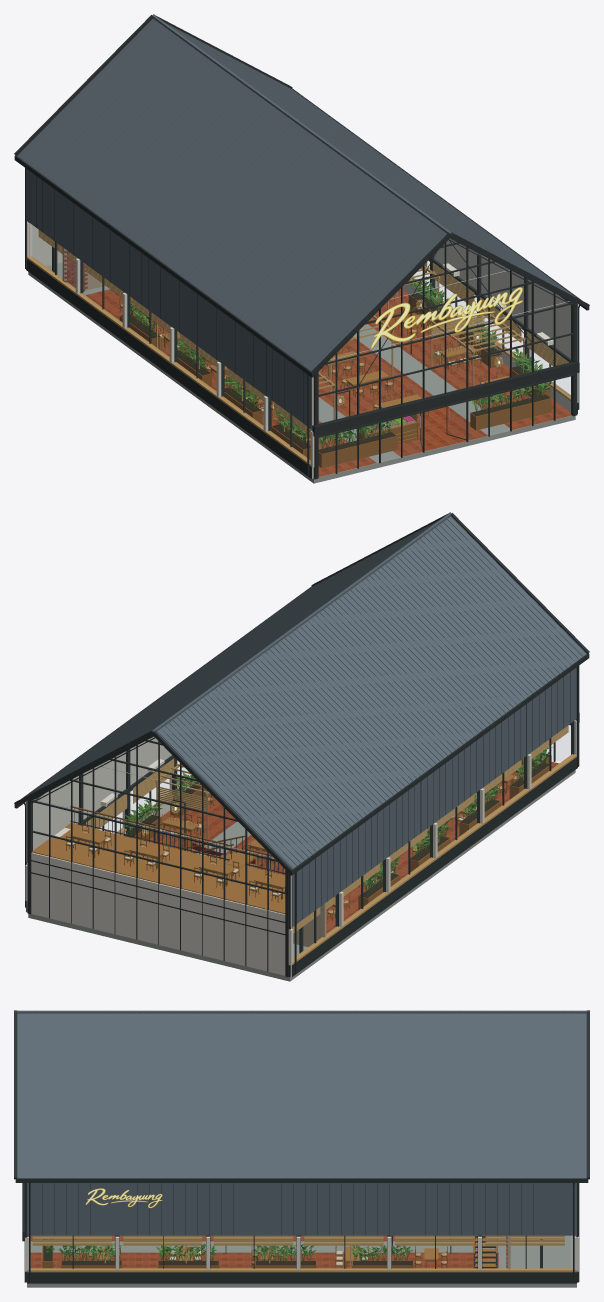
Rendered from LM_ENV_Rembayung.glb.
3 views of the same model, one above another, from view 1: azimuth 30°, elevation 25°; view 2: azimuth 150°, elevation 25°; view 3: azimuth 270°, elevation 25° (orthographic). The views are drawn at different scales.
Parts seen in each view (by area): view 1: Rembayung | Graphite standing seam roof, Rembayung | Charcoal powder-coated steel, Rembayung | Terracotta tile · web texture, Rembayung | Warm off-white plaster, Rembayung | Mottled polished concrete, Rembayung | Honey brown bentwood, Rembayung | Natural timber partitions, Rembayung | Woven rattan, Rembayung | Foliage 01, Rembayung | Rembayung original illuminated wordmark, Rembayung | Dark potting soil, Rembayung | Polished wood tabletops (+4 smaller); view 2: Rembayung | Graphite standing seam roof, Rembayung | Charcoal powder-coated steel, Rembayung | Warm off-white plaster, Rembayung | Polished wood tabletops, Rembayung | Terracotta tile · web texture, Rembayung | Natural timber partitions, Rembayung | Mottled polished concrete, Rembayung | Woven rattan, Rembayung | Honey brown bentwood, Rembayung | Foliage 01, Rembayung | Dark potting soil, Rembayung | Clear architectural glass (+1 smaller); view 3: Rembayung | Graphite standing seam roof, Rembayung | Charcoal powder-coated steel, Rembayung | Mottled polished concrete, Rembayung | Woven rattan, Rembayung | Terracotta tile · web texture, Rembayung | Natural timber partitions, Rembayung | Foliage 01, Rembayung | Dark potting soil, Rembayung | Honey brown bentwood, Rembayung | Warm off-white plaster, Rembayung | Polished wood tabletops, Rembayung | Rembayung original illuminated wordmark (+4 smaller).
Boxes of the visible parts, x1,y1,x2,y2 form: Rembayung | Graphite standing seam roof: [17, 15, 577, 429]; Rembayung | Charcoal powder-coated steel: [14, 14, 589, 479]; Rembayung | Terracotta tile · web texture: [86, 288, 571, 476]; Rembayung | Warm off-white plaster: [27, 222, 578, 478]; Rembayung | Mottled polished concrete: [28, 262, 575, 483]; Rembayung | Honey brown bentwood: [119, 289, 551, 467]; Rembayung | Natural timber partitions: [27, 256, 570, 466]; Rembayung | Woven rattan: [38, 230, 568, 435]; Rembayung | Foliage 01: [130, 278, 546, 450]; Rembayung | Rembayung original illuminated wordmark: [370, 287, 522, 348]; Rembayung | Dark potting soil: [121, 293, 550, 453]; Rembayung | Polished wood tabletops: [130, 302, 509, 442]; Rembayung | Graphite standing seam roof: [26, 513, 586, 927]; Rembayung | Charcoal powder-coated steel: [14, 512, 589, 977]; Rembayung | Warm off-white plaster: [25, 720, 576, 976]; Rembayung | Polished wood tabletops: [32, 775, 514, 913]; Rembayung | Terracotta tile · web texture: [147, 761, 558, 933]; Rembayung | Natural timber partitions: [116, 754, 576, 964]; Rembayung | Mottled polished concrete: [28, 770, 575, 981]; Rembayung | Woven rattan: [85, 725, 568, 933]; Rembayung | Honey brown bentwood: [70, 755, 551, 909]; Rembayung | Foliage 01: [125, 749, 551, 893]; Rembayung | Dark potting soil: [123, 754, 549, 897]; Rembayung | Clear architectural glass: [99, 725, 570, 833]; Rembayung | Graphite standing seam roof: [15, 1010, 588, 1235]; Rembayung | Charcoal powder-coated steel: [14, 1010, 589, 1283]; Rembayung | Mottled polished concrete: [27, 1235, 576, 1287]; Rembayung | Woven rattan: [32, 1235, 564, 1245]; Rembayung | Terracotta tile · web texture: [30, 1235, 498, 1268]; Rembayung | Natural timber partitions: [27, 1239, 576, 1272]; Rembayung | Foliage 01: [44, 1239, 409, 1262]; Rembayung | Dark potting soil: [43, 1239, 412, 1265]; Rembayung | Honey brown bentwood: [42, 1235, 497, 1268]; Rembayung | Warm off-white plaster: [25, 1235, 578, 1271]; Rembayung | Polished wood tabletops: [97, 1235, 496, 1266]; Rembayung | Rembayung original illuminated wordmark: [85, 1188, 162, 1208].
Bounding box in the file's own units: 19.07 × 14.66 × 35.6.
Materials: 37 (2 with a texture image).
